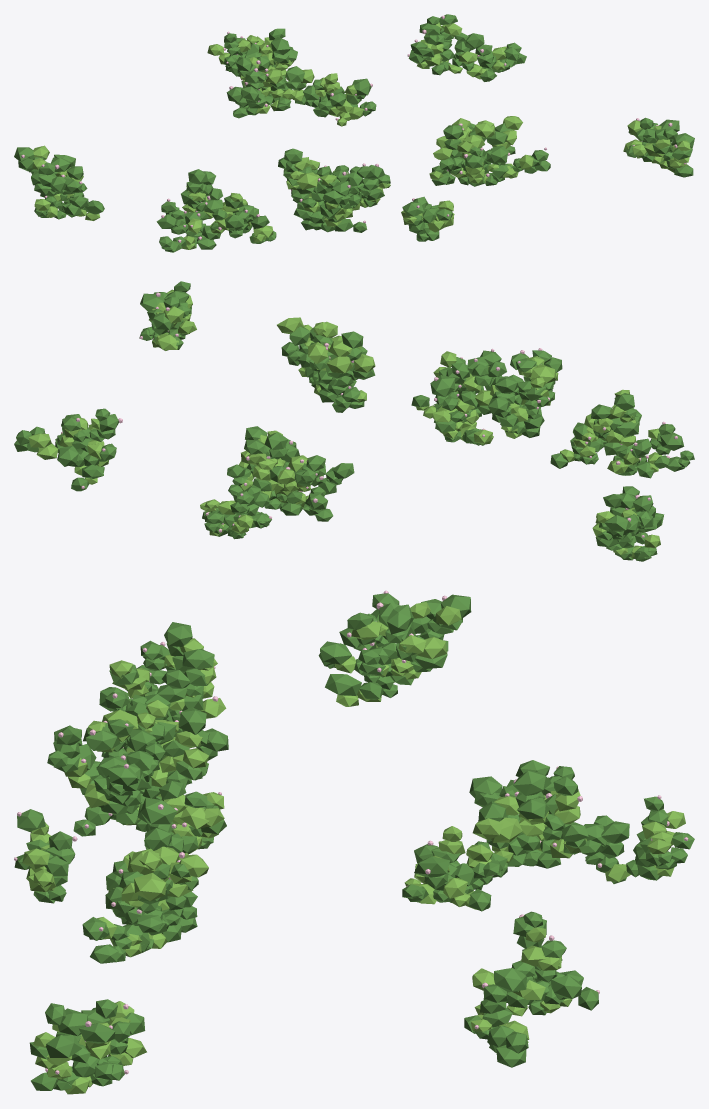
File: CumbreFollaje.glb
3 views of the same model, one above another, from view 1: azimuth 30°, elevation 25°; view 2: azimuth 150°, elevation 25°; view 3: azimuth 270°, elevation 25° (orthographic). The views are drawn at different scales.
Visible parts, largest first — view 1: CumbreFollaje; view 2: CumbreFollaje; view 3: CumbreFollaje.
Part boxes in pixels (bbox=[...]): CumbreFollaje: bbox=[14, 14, 694, 252]; CumbreFollaje: bbox=[14, 281, 694, 561]; CumbreFollaje: bbox=[14, 590, 694, 1094].
Size of the model in its own units: 60.47 by 9.11 by 41.43.
